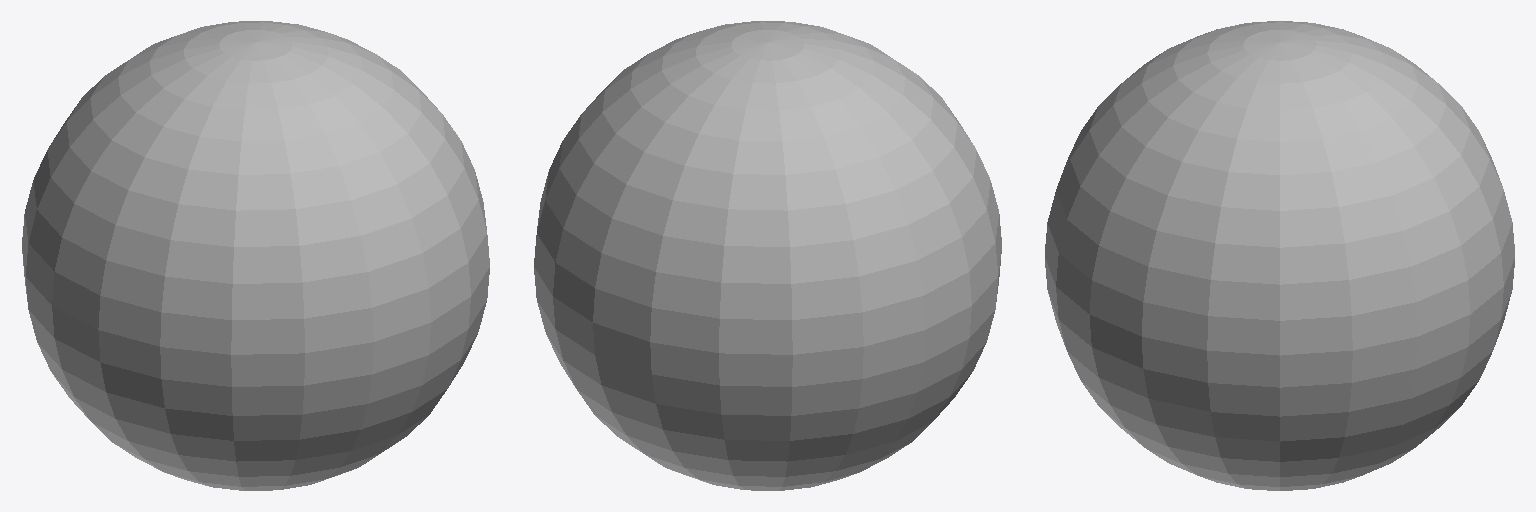
Rendered from RoadLight0.obj.
3 views of the same model, side by side, from view 1: azimuth 30°, elevation 25°; view 2: azimuth 150°, elevation 25°; view 3: azimuth 270°, elevation 25° (orthographic).
Bounding box in the file's own units: 1.18 × 1.18 × 1.18.